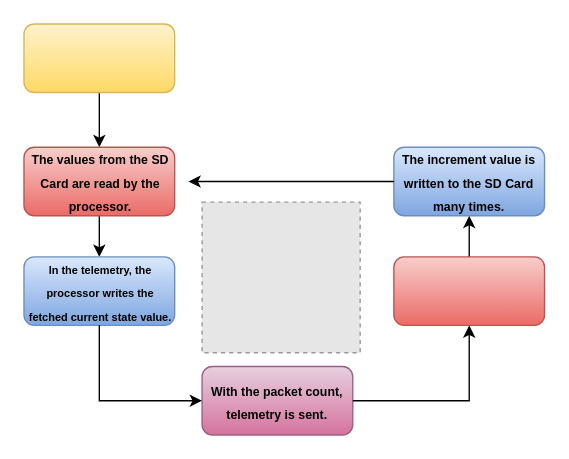
Some shapes in this 569 by 459 pixel diagram are drawn without their labels. Grey dashed boxes stand in for pictures. The shapes that lost their labels are listed below. From the top down, each one's box as (x1, y1, x2, y2) in pixels, then its label:
(23, 23, 175, 92): Data on altitude, pressure, and voltage is kept on the SD card.
(393, 256, 545, 325): The value retrieved is increased by 1
